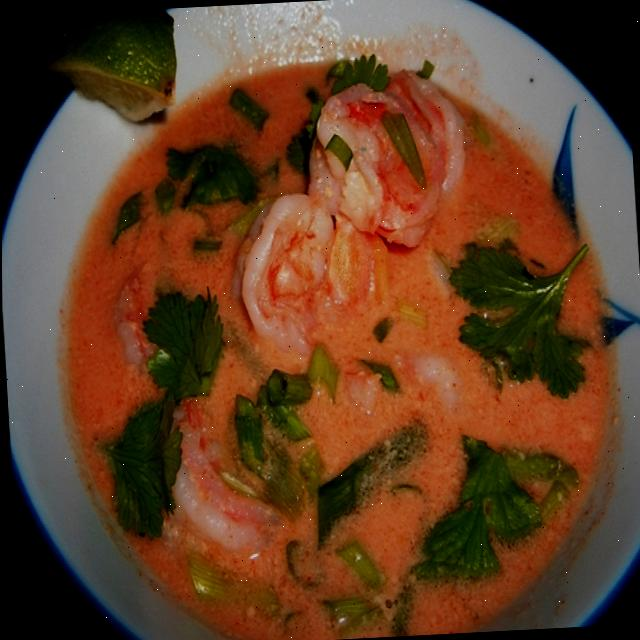汤锅炖物: (18, 16, 637, 639)
